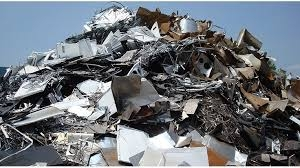metal: (104, 69, 152, 124), (71, 73, 118, 125), (131, 142, 216, 168), (112, 122, 157, 168), (235, 82, 291, 118), (6, 75, 58, 100), (232, 25, 265, 59), (174, 93, 205, 122), (214, 72, 242, 103), (193, 50, 218, 82), (281, 77, 300, 114), (177, 16, 206, 39), (238, 49, 265, 72), (232, 61, 258, 83)
